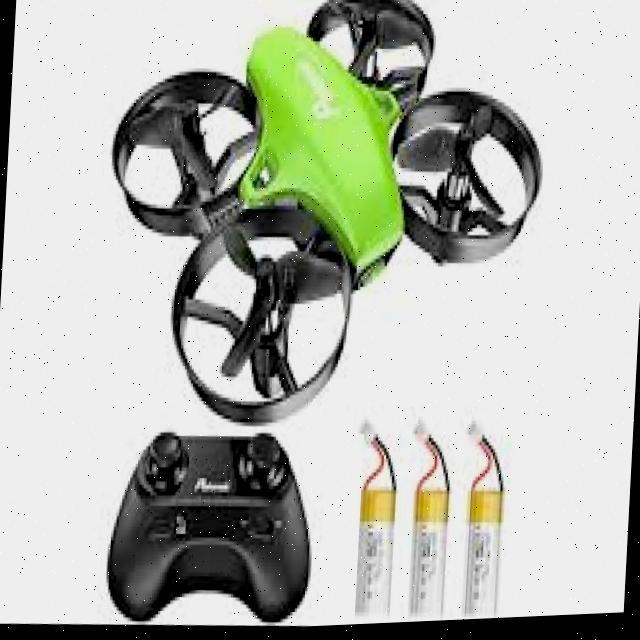drone: (66, 0, 588, 456)
